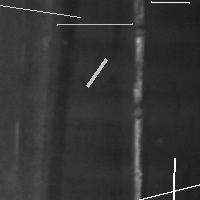scratches: (128, 4, 147, 199), (0, 0, 85, 22), (130, 175, 200, 200), (82, 54, 111, 91), (52, 19, 137, 30), (166, 153, 179, 200), (146, 0, 194, 7)
